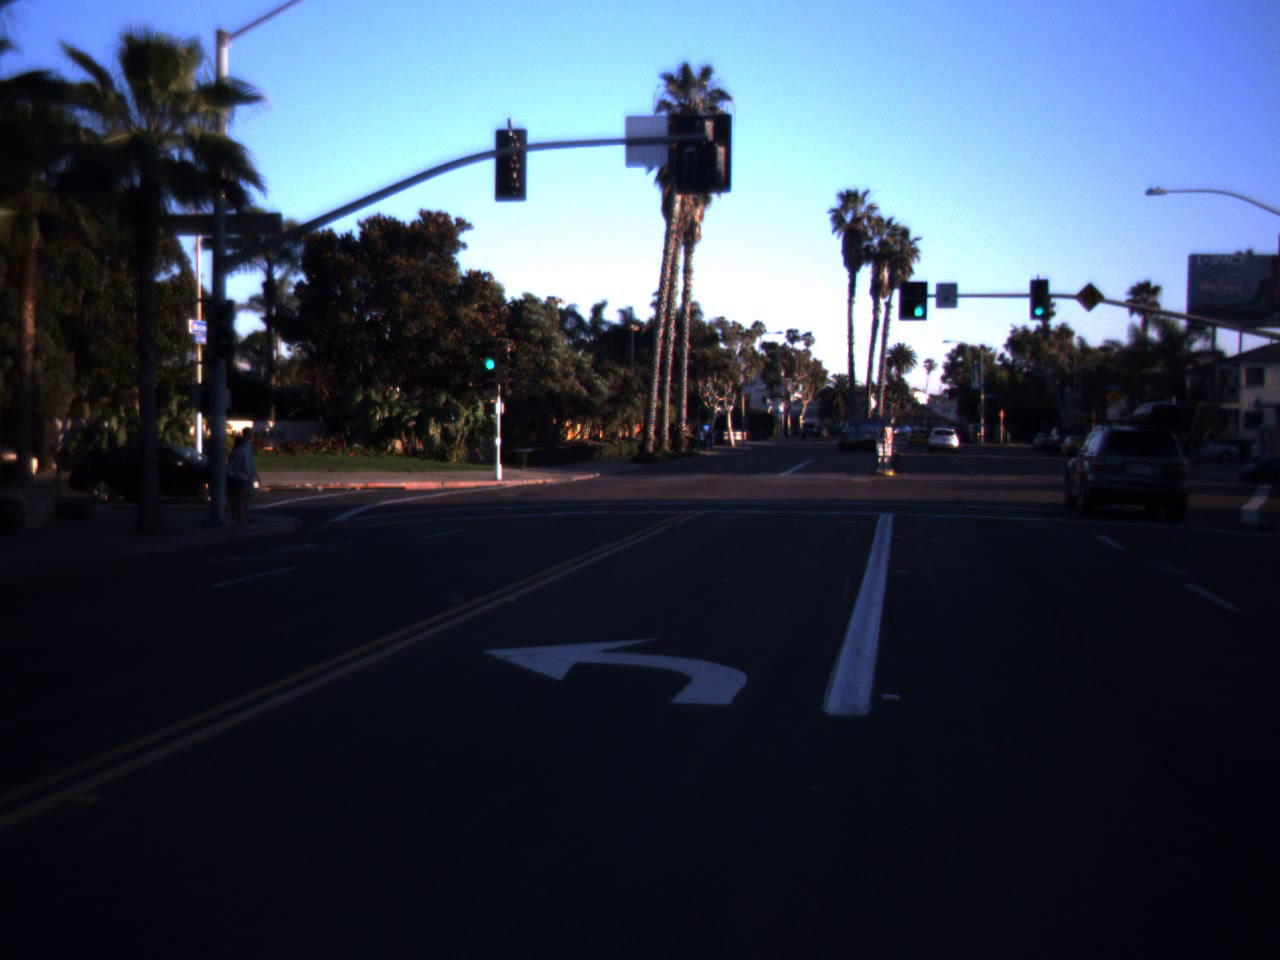go: (478, 328, 502, 373), (910, 280, 928, 320), (1030, 291, 1048, 316)
